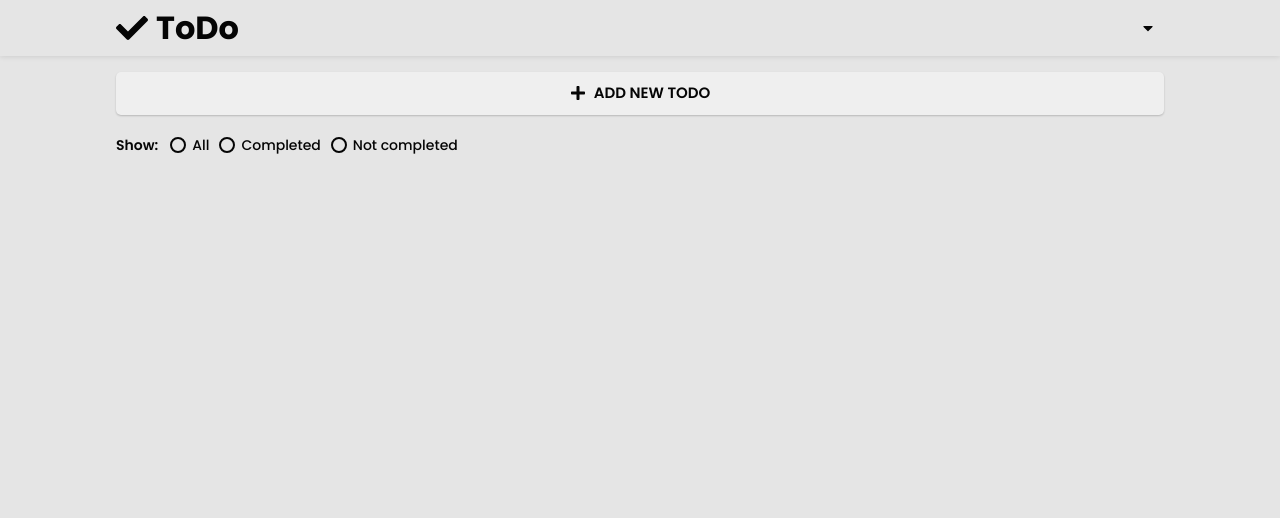
Test: toggle NewToDoModal visible
Click the button with test id "newToDoButton": (640, 93) [116,72,1164,114]
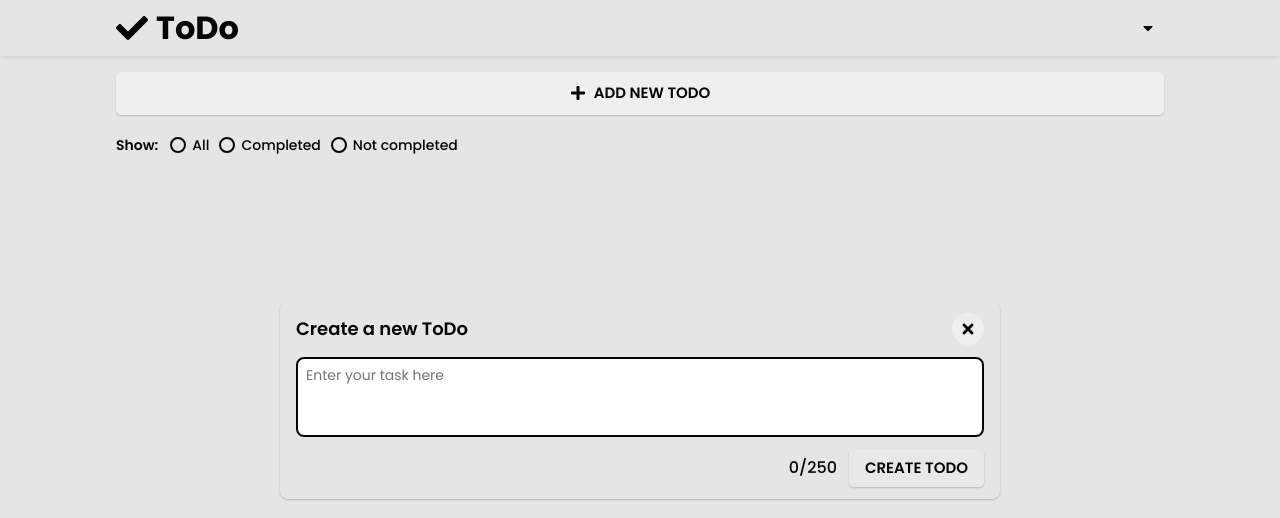
expect the button with test id "newToDoModalCloseButton" is shown: met, box [952,313,984,345]
